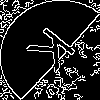K: (25, 25, 86, 80)
